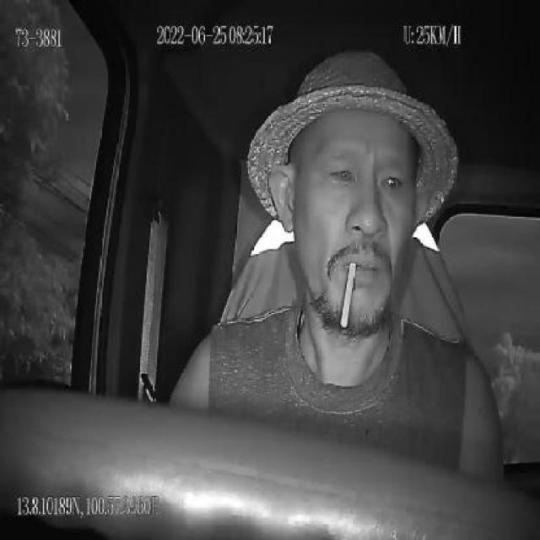smoking: (339, 260, 358, 334)
